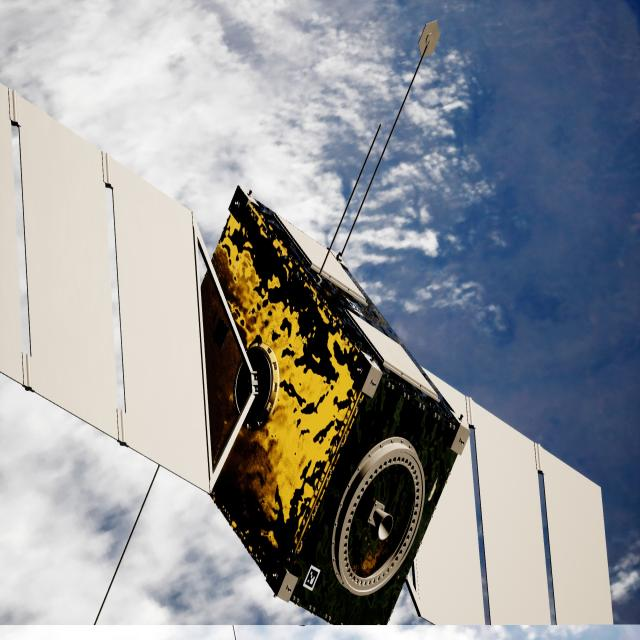medium_debris: (0, 84, 613, 629)
